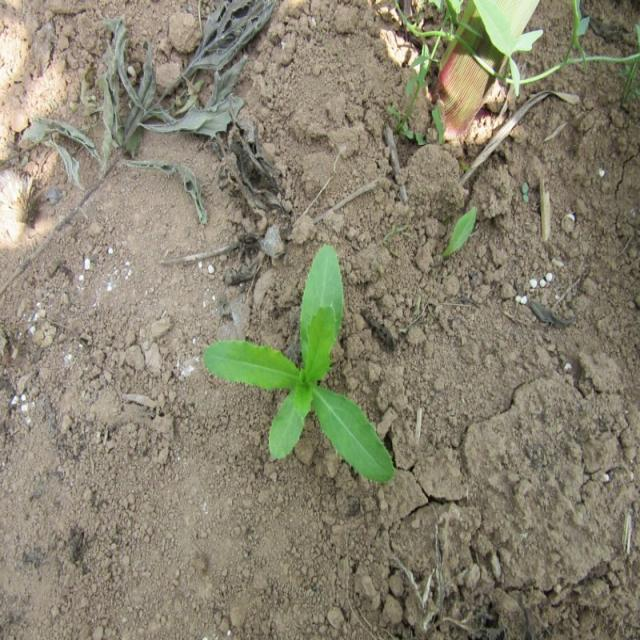cs: (196, 235, 399, 490)
